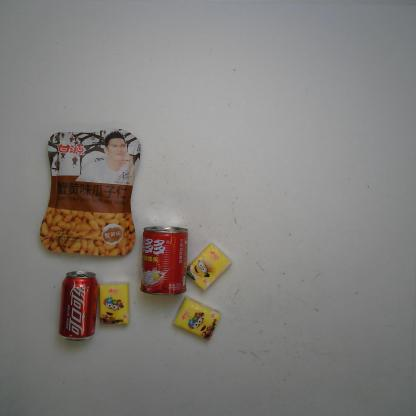Canned Food: (138, 224, 193, 298)
Dried Fruit: (37, 127, 143, 260)
Drink: (58, 268, 100, 341)
Tissue: (168, 294, 225, 343), (187, 241, 234, 292), (99, 280, 133, 327)
